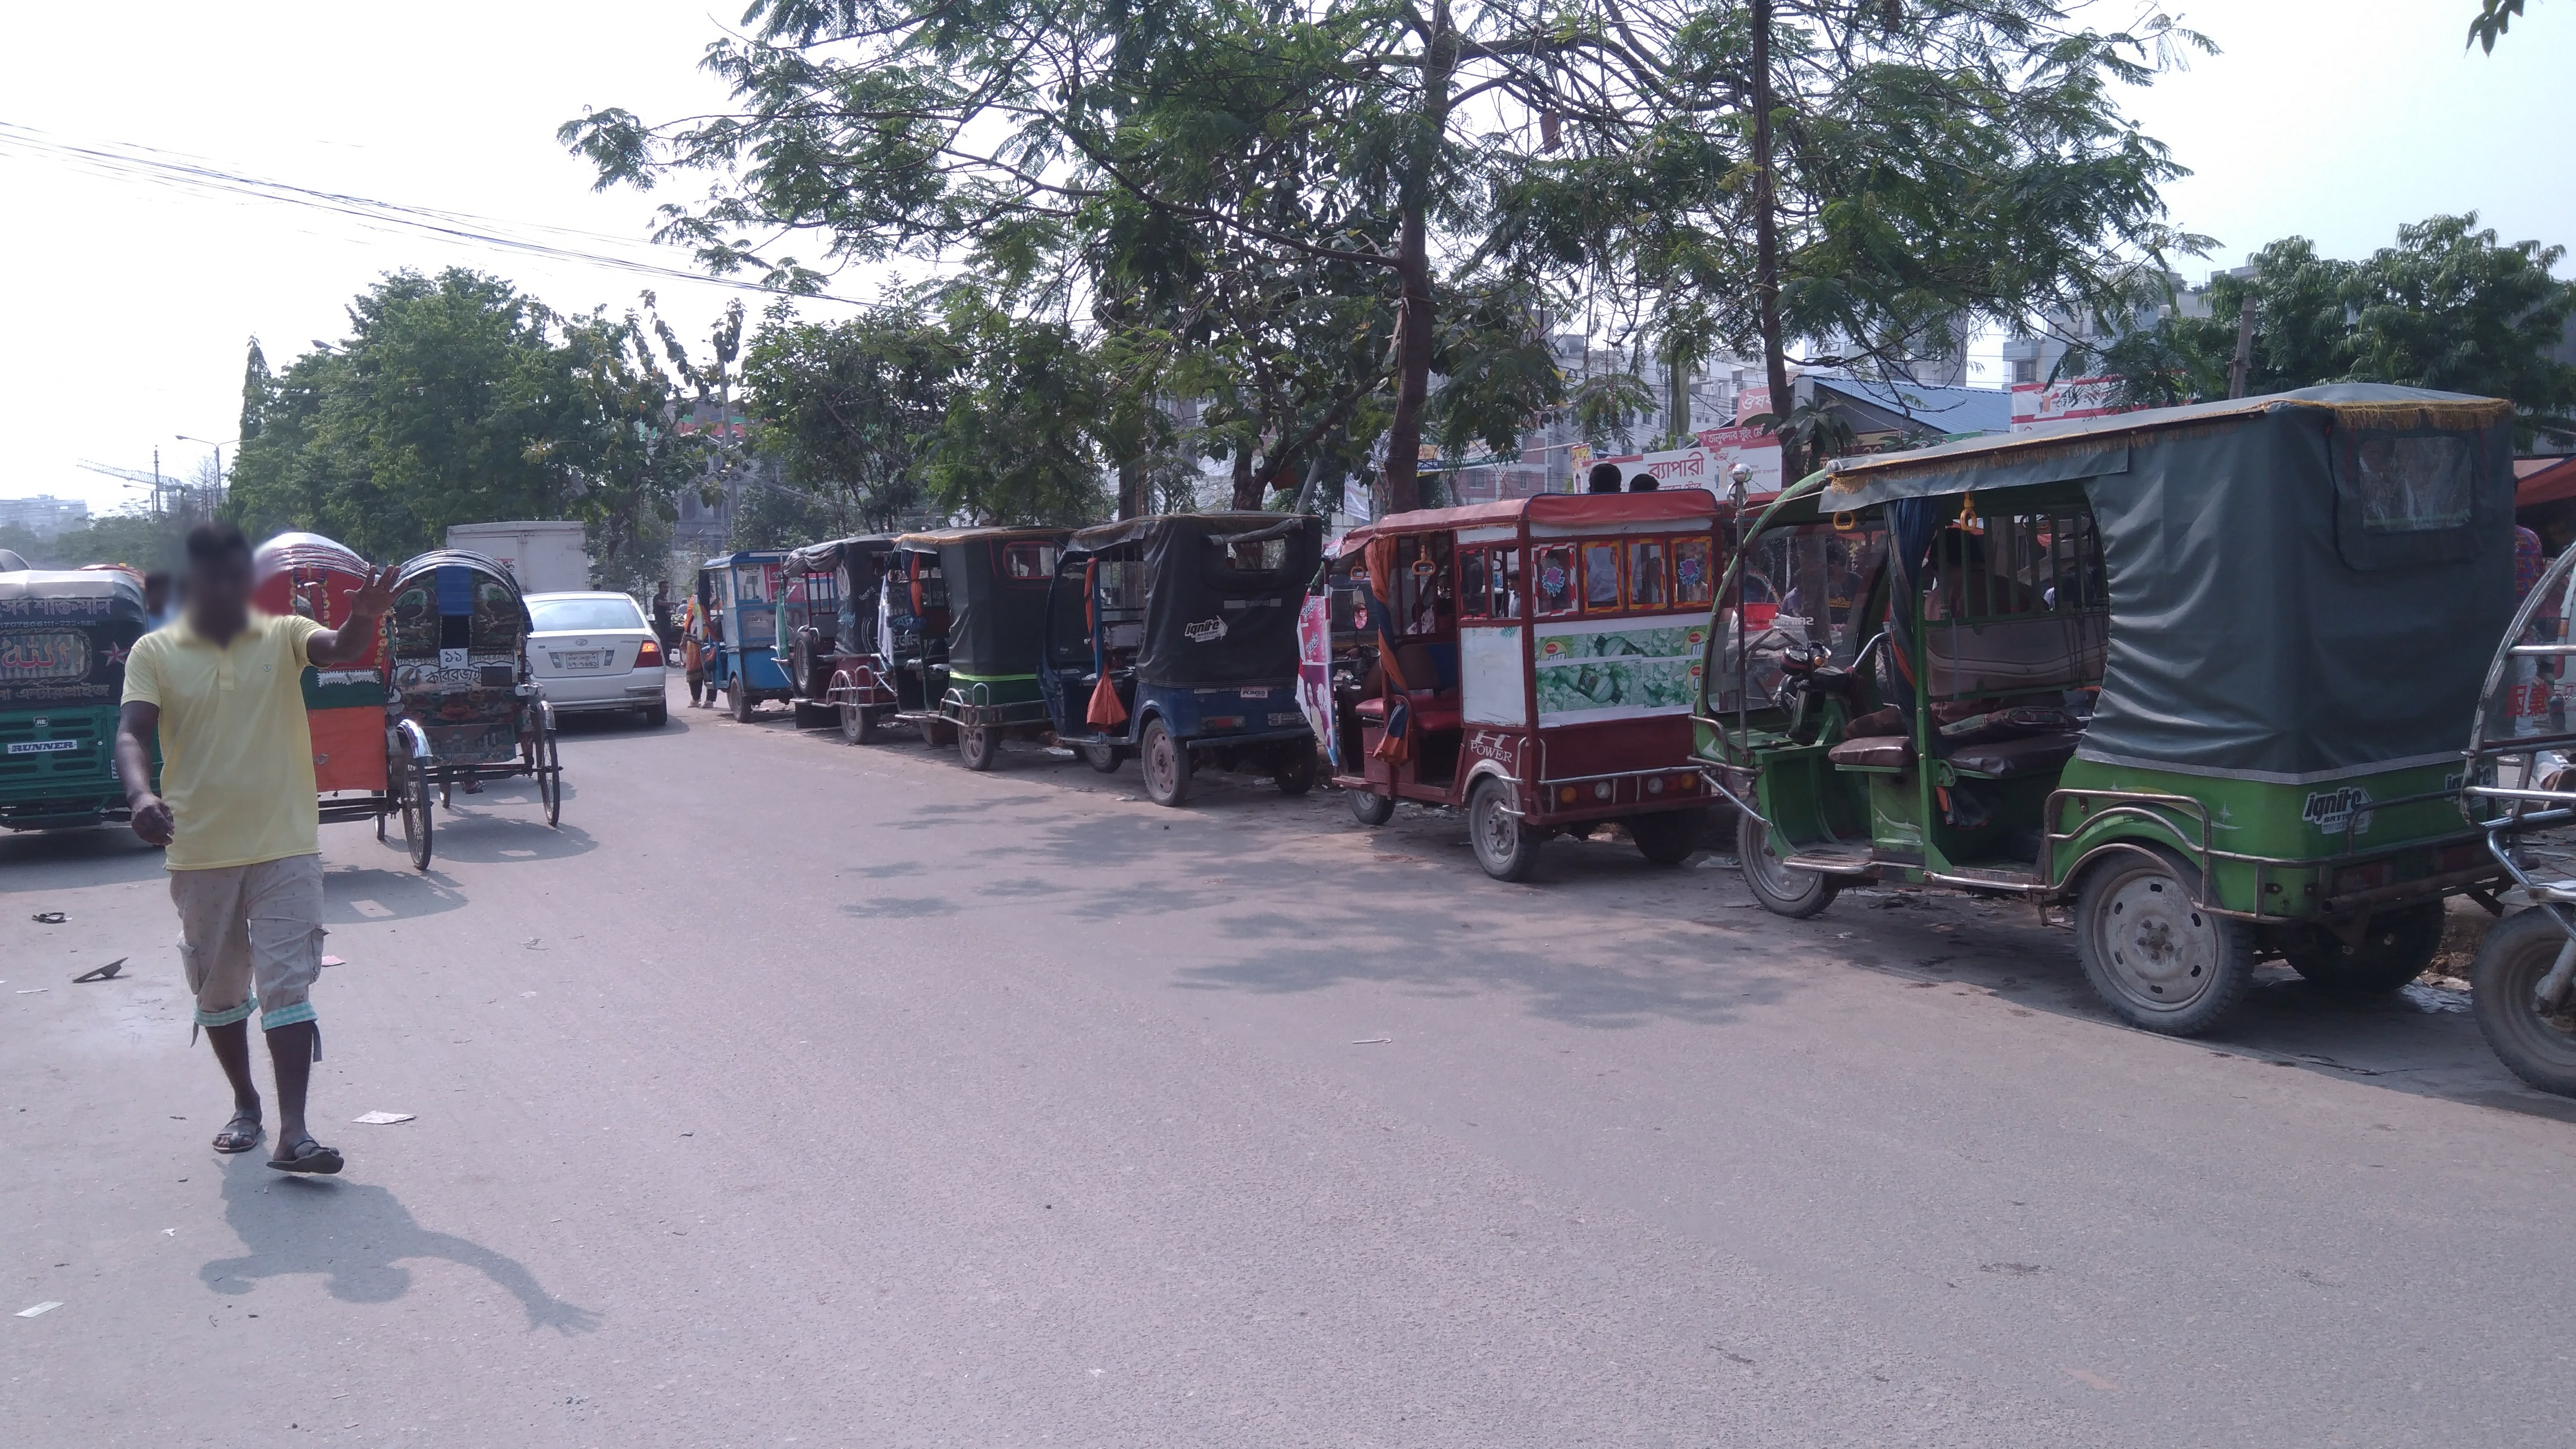car: (525, 586, 667, 731), (527, 594, 665, 720)
cng: (0, 571, 159, 840)
easybike: (1693, 377, 2512, 1035), (1293, 485, 1727, 876), (1042, 510, 1318, 803), (2463, 533, 2576, 1092), (874, 531, 1053, 764), (777, 533, 893, 734), (695, 550, 773, 715)
rickshaw: (253, 533, 433, 874), (396, 543, 561, 830)
